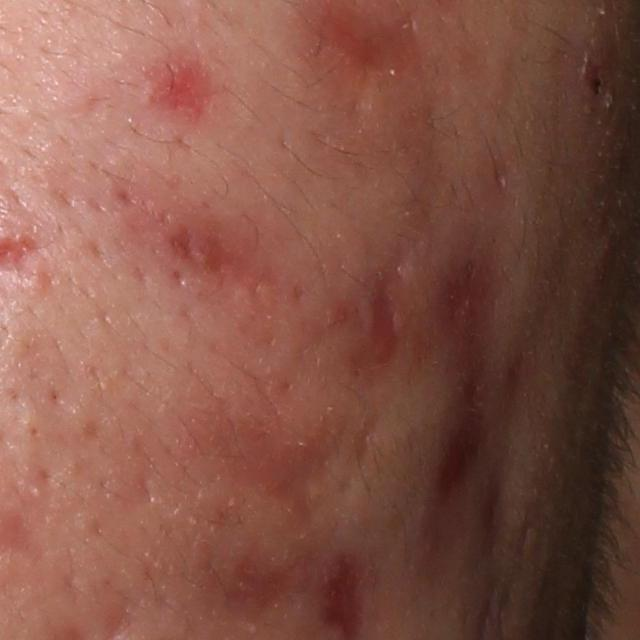atrophic_scar: (202, 406, 390, 535), (434, 222, 514, 396), (416, 393, 486, 560), (348, 264, 409, 380), (214, 561, 298, 634), (200, 231, 259, 276), (167, 221, 196, 264)
